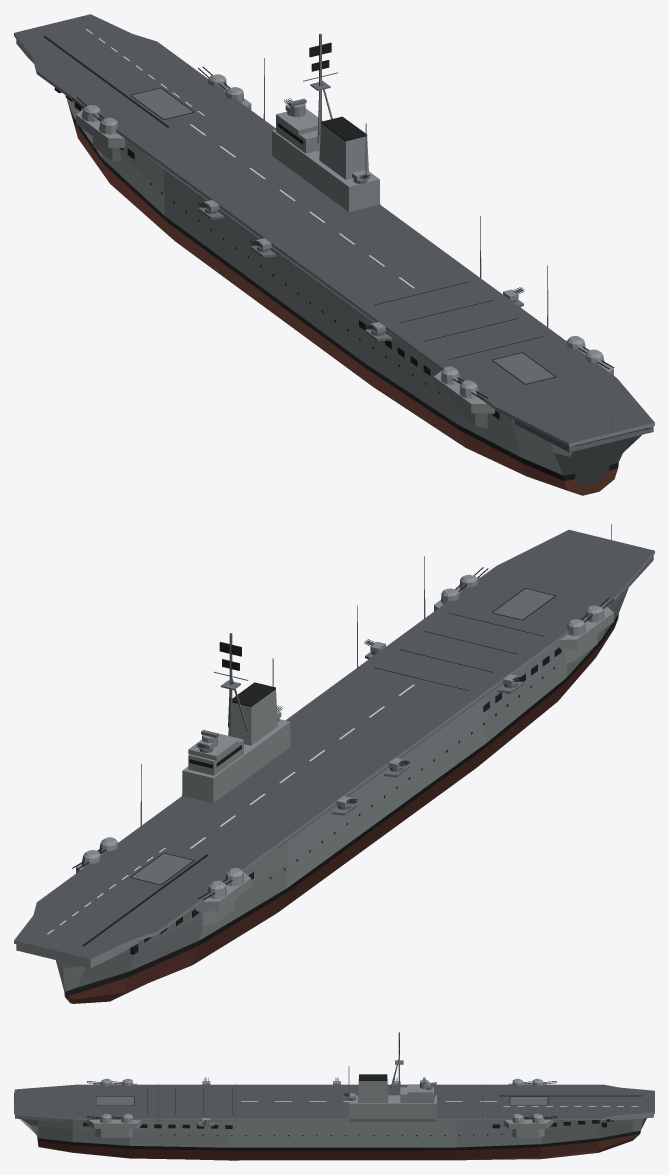
File: illustrious.glb
3 views of the same model, one above another, from view 1: azimuth 30°, elevation 25°; view 2: azimuth 150°, elevation 25°; view 3: azimuth 270°, elevation 25° (orthographic). The views are drawn at different scales.
Parts seen in each view (by area): view 1: HMS Illustrious; view 2: HMS Illustrious; view 3: HMS Illustrious.
Boxes of the visible parts, x1,y1,x2,y2 form: HMS Illustrious: (14,14,654,495); HMS Illustrious: (14,524,654,1003); HMS Illustrious: (14,1032,654,1160).
Bounding box in the file's own units: 36.42 × 52.3 × 225.
